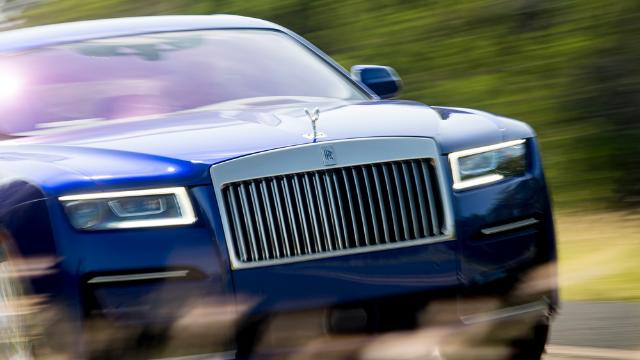rolls-royce: (1, 14, 560, 360)
